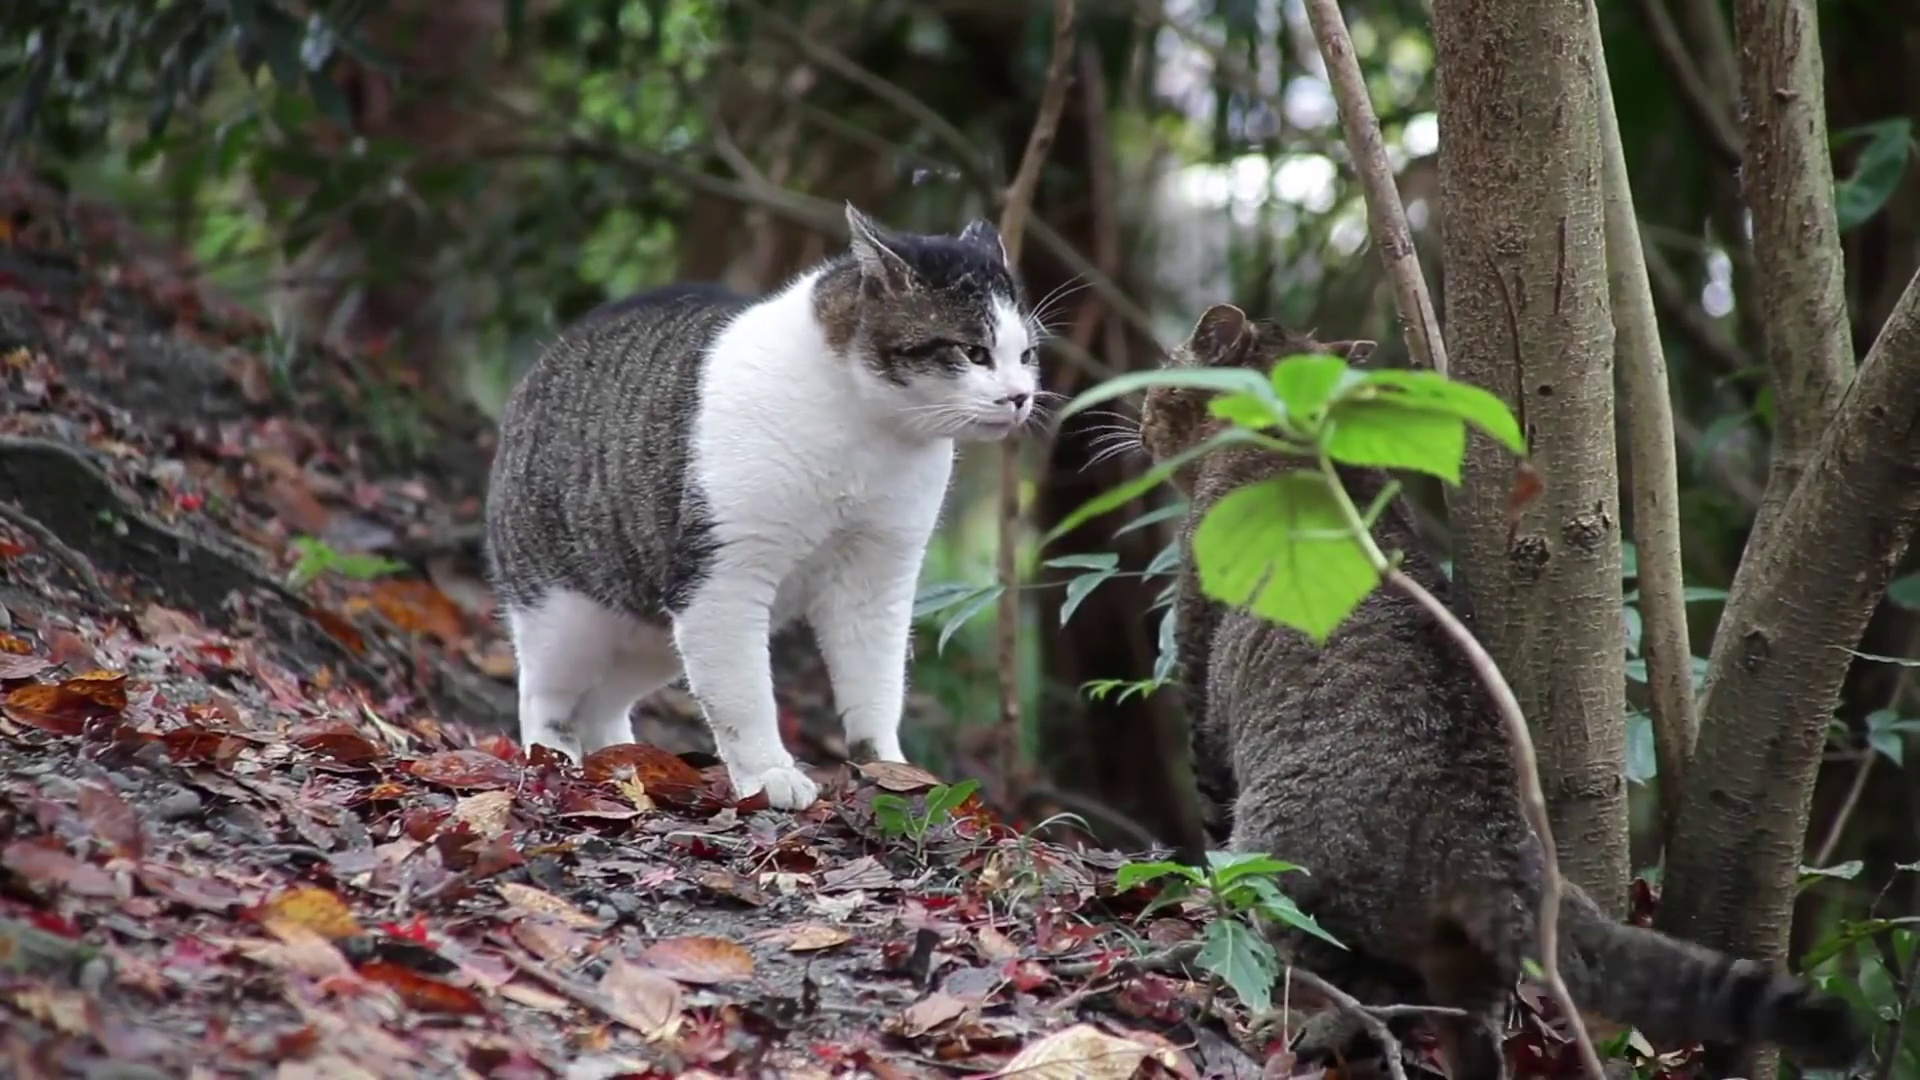black-white: (481, 199, 1038, 808)
pure black: (1138, 305, 1539, 1080)
